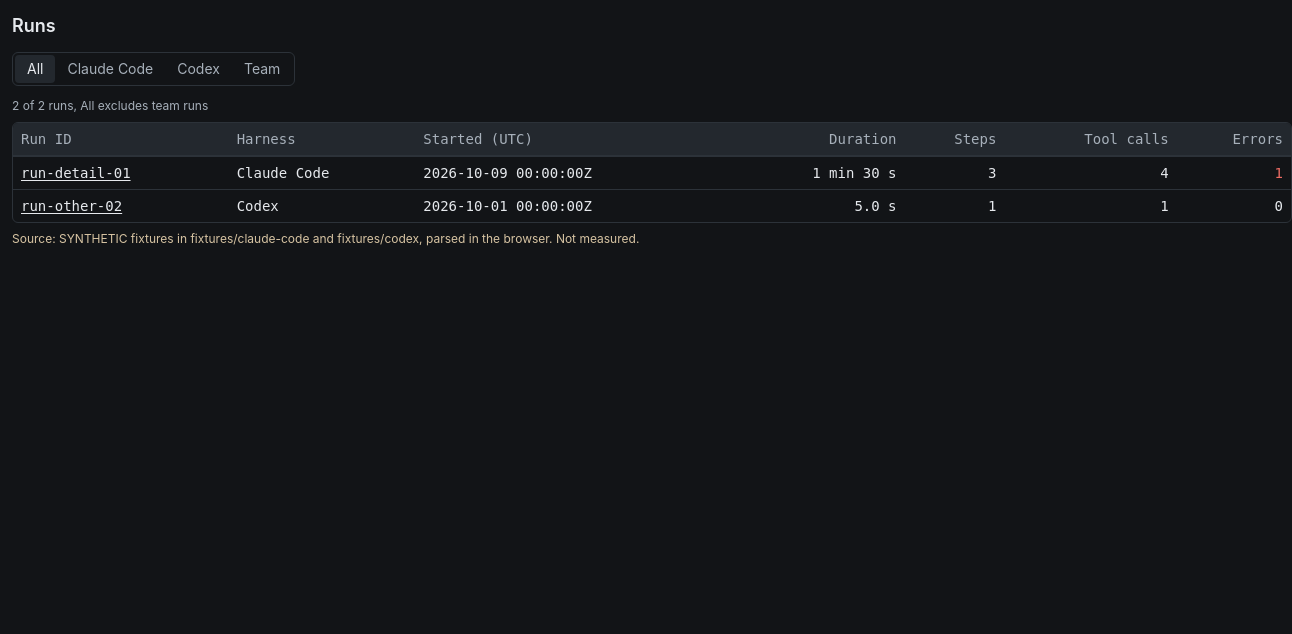
Scenario: HL-010b run detail › a row opens the detail view with a heading naming the run
The width and height of the screenshot is (1292, 634).
Click the button "run-detail-01": (76, 173) [21, 163, 131, 183]
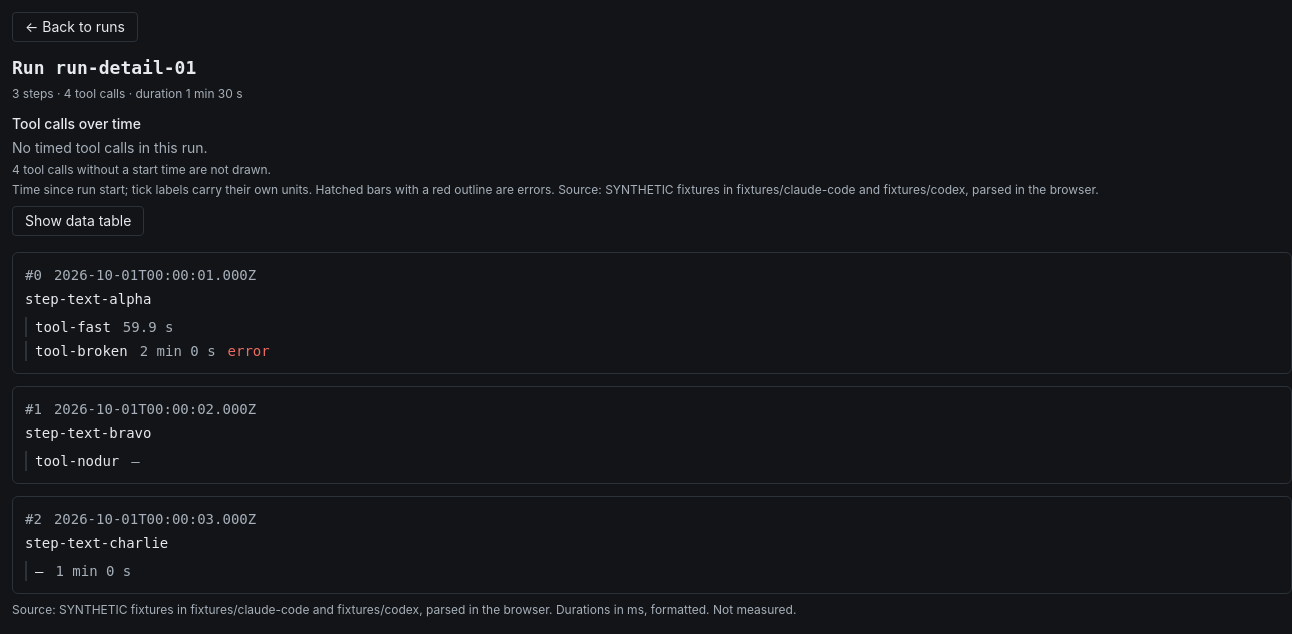
Now the heading "Run run-detail-01" is shown, box [12, 57, 196, 78]
